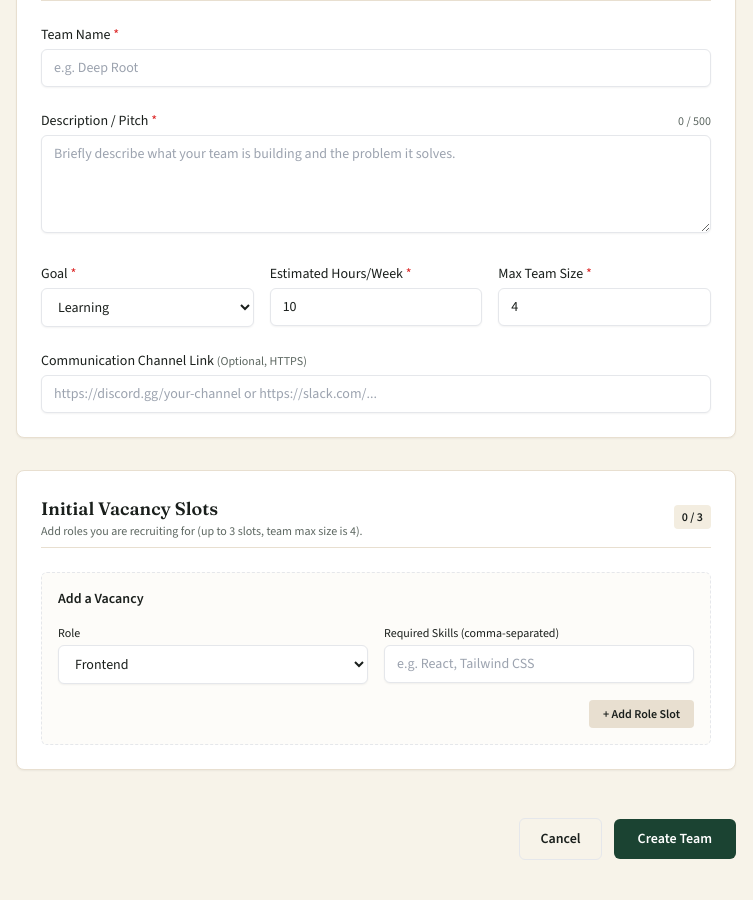
it: CreateTeamPage component › validates required fields on submit
(page scrolled)
Click the button "Create Team": [675, 839] box [614, 819, 736, 859]
(page scrolled)
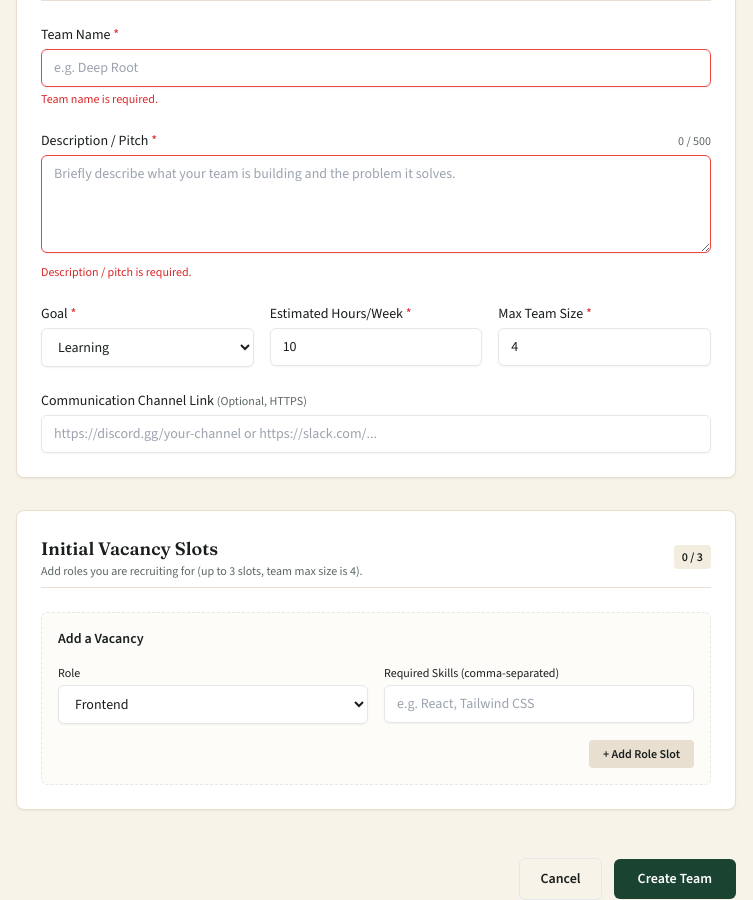
Result: the text "Team name is required." is shown at [41, 91, 158, 107]
Result: the text "Description / pitch is required." is shown at [41, 264, 192, 280]
